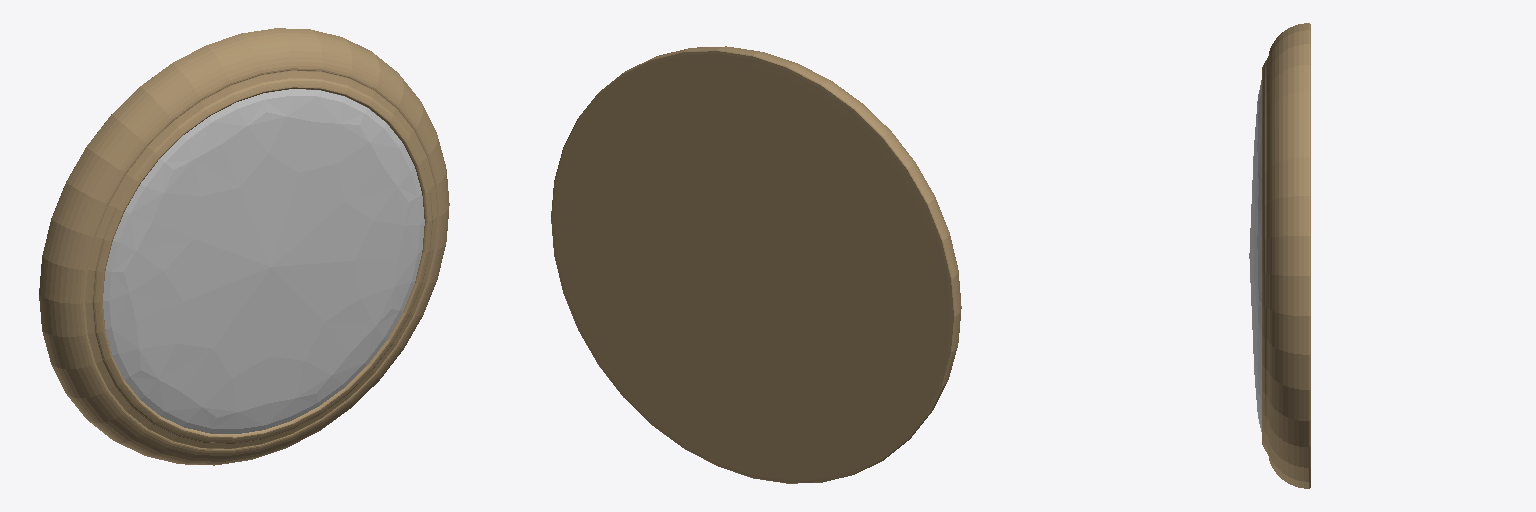
File: Wall Clock.obj
The picture shows the model from 3 angles: view 1: azimuth 30°, elevation 25°; view 2: azimuth 150°, elevation 25°; view 3: azimuth 270°, elevation 25°; orthographic projection.
Parts seen in each view (by area): view 1: секло, крпус; view 2: крпус; view 3: крпус, секло.
Boxes of the visible parts, <box> form: секло: <box>103,89,424,433</box>; крпус: <box>39,28,449,465</box>; крпус: <box>551,46,961,483</box>; крпус: <box>1262,23,1310,488</box>; секло: <box>1249,80,1261,431</box>.
Bounding box in the file's own units: 252 × 252 × 33.09.